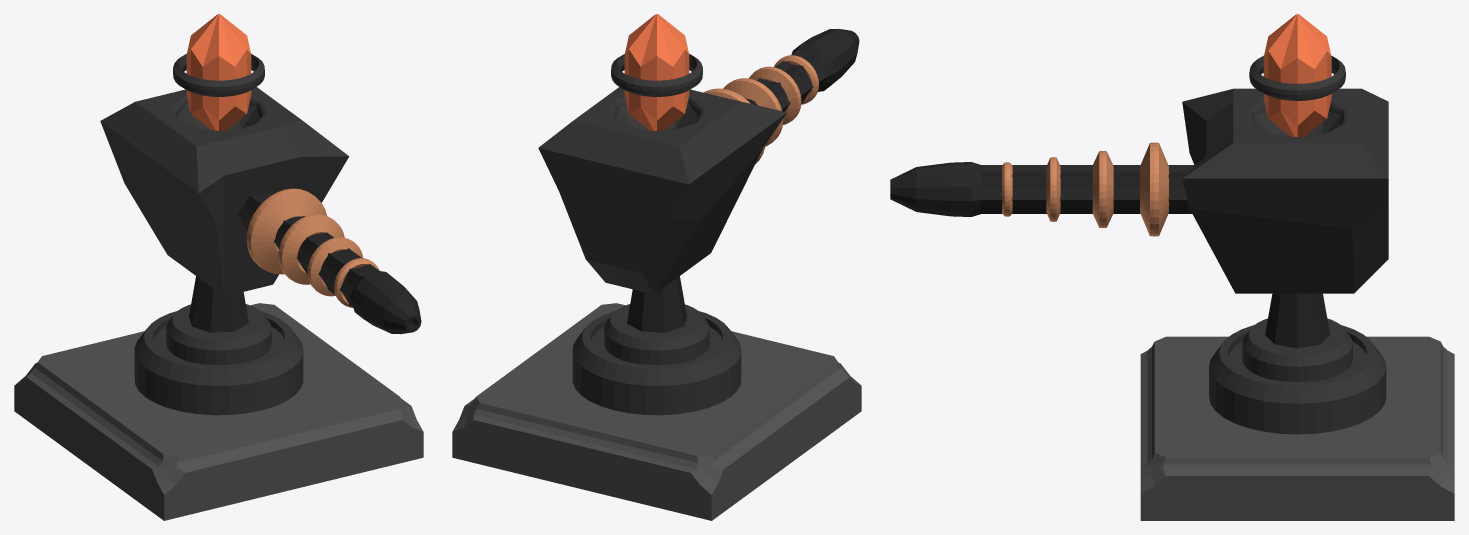
Rendered from Laser Tower.fbx.
3 renders of one model, left to right at view 1: azimuth 30°, elevation 25°; view 2: azimuth 150°, elevation 25°; view 3: azimuth 270°, elevation 25°, orthographic. The views are drawn at different scales.
Parts seen in each view (by area): view 1: Head, Platform; view 2: Head, Platform; view 3: Head, Platform.
Part boxes in pixels (box(x1,y1,x2,y2)): Head: box(100, 14, 421, 415); Platform: box(14, 303, 423, 520); Head: box(538, 14, 859, 415); Platform: box(452, 303, 861, 520); Head: box(890, 14, 1388, 434); Platform: box(1140, 336, 1454, 520).
Size of the model in its own units: 100 by 155 by 180.
